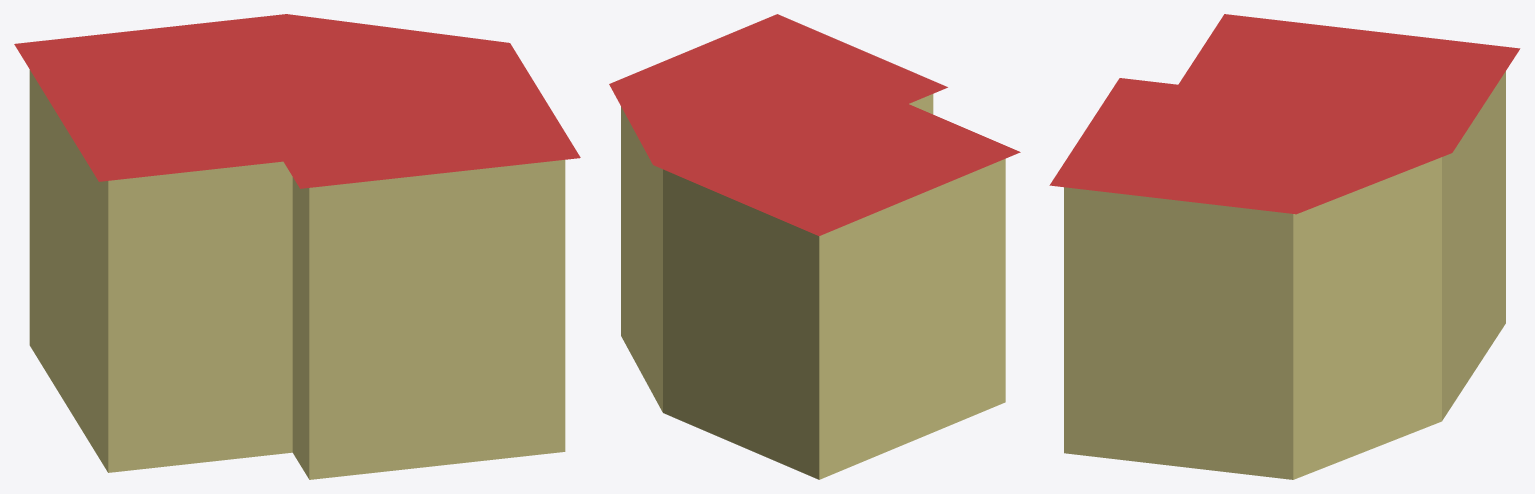
3 renders of one model, left to right at view 1: azimuth 30°, elevation 25°; view 2: azimuth 150°, elevation 25°; view 3: azimuth 270°, elevation 25°, orthographic. The views are drawn at different scales.
Size of the model in its own units: 10.08 by 10.02 by 6.36.
